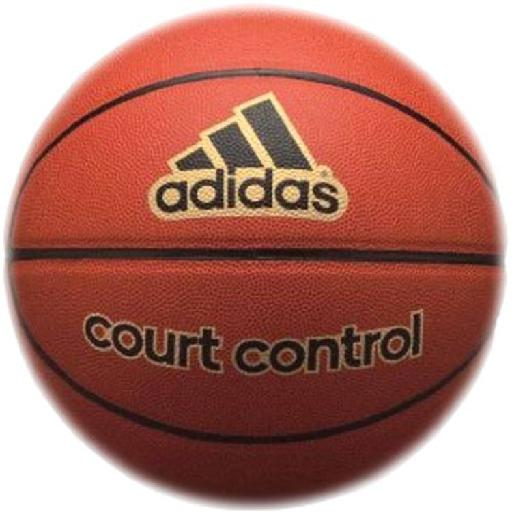ball: (4, 8, 504, 500)
